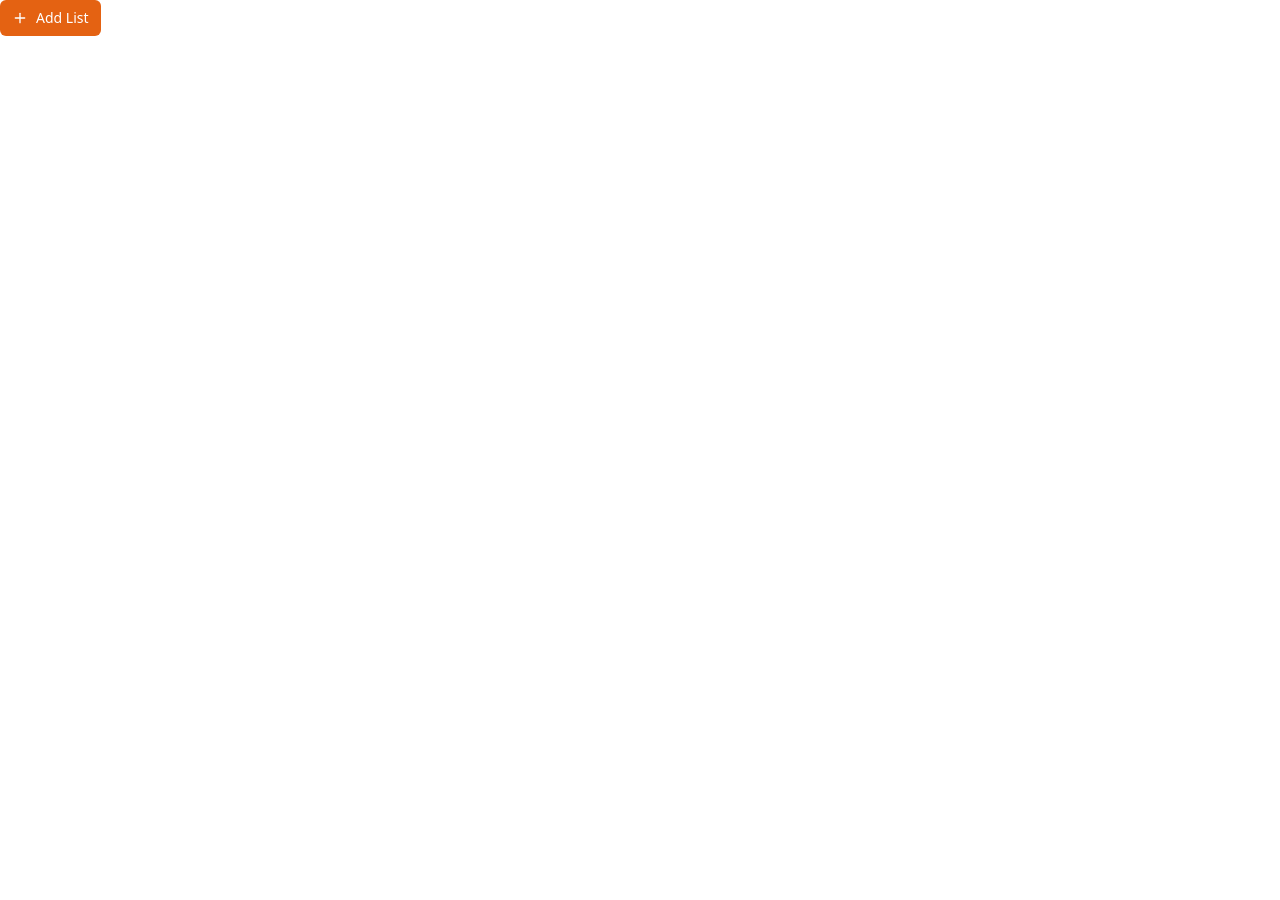
Scenario: CreateListDialog › enables create button when title is provided
Click the button "Add List" at (50, 18), box [0,0,100,36]
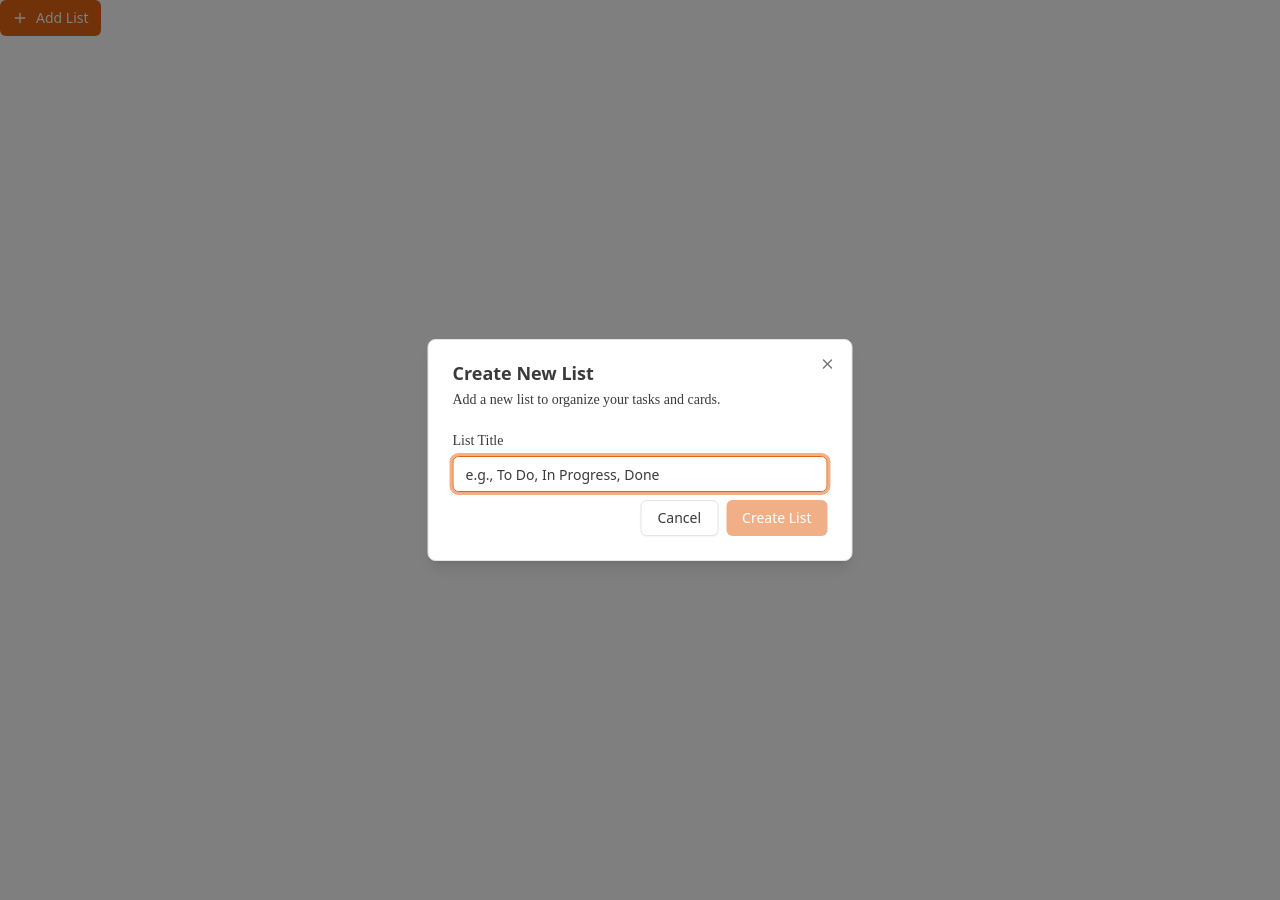
Type "To Do" into the field labelled "List Title" at (640, 474), box [452,456,828,492]
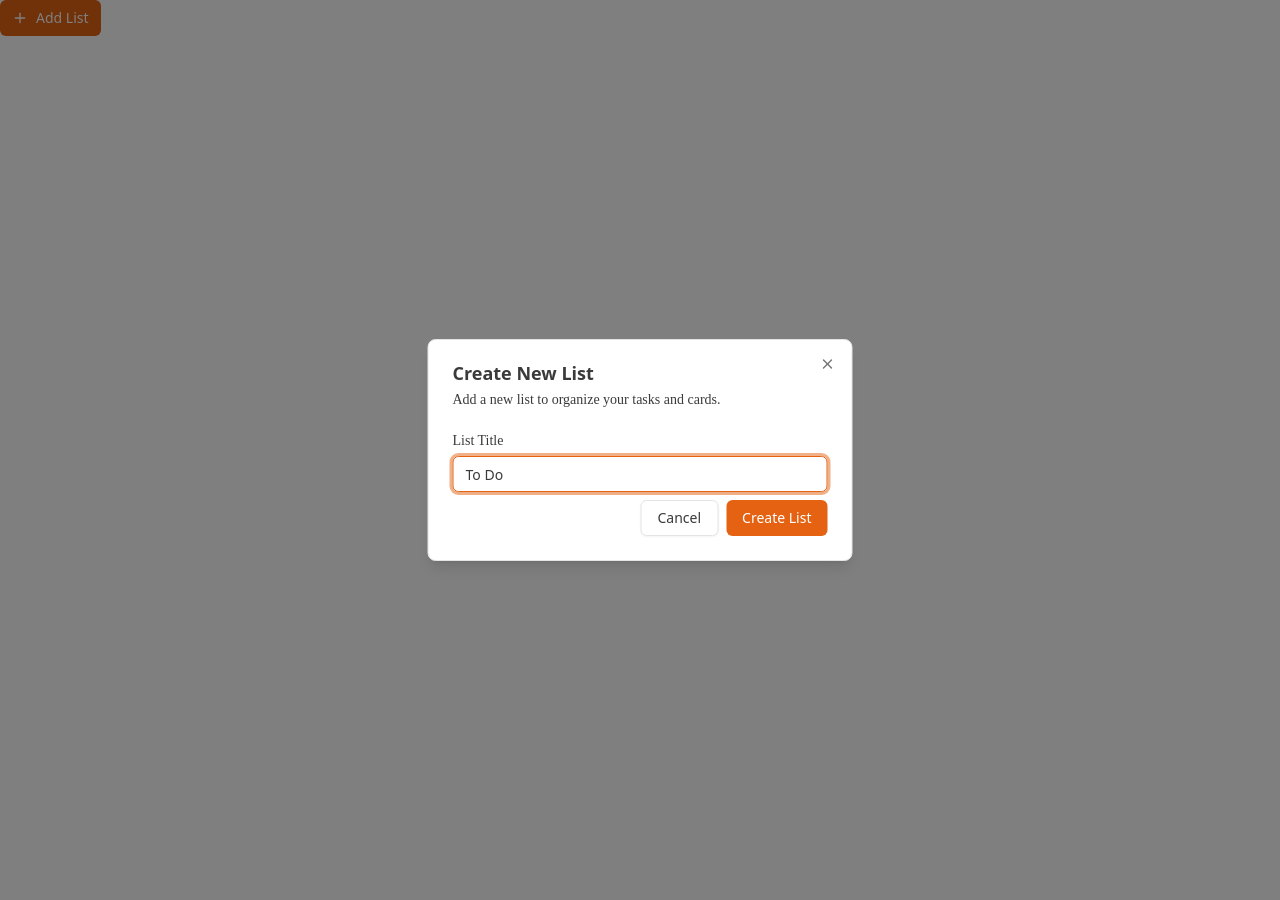
Check: the button "Create List" is enabled, box [726,500,828,536]
